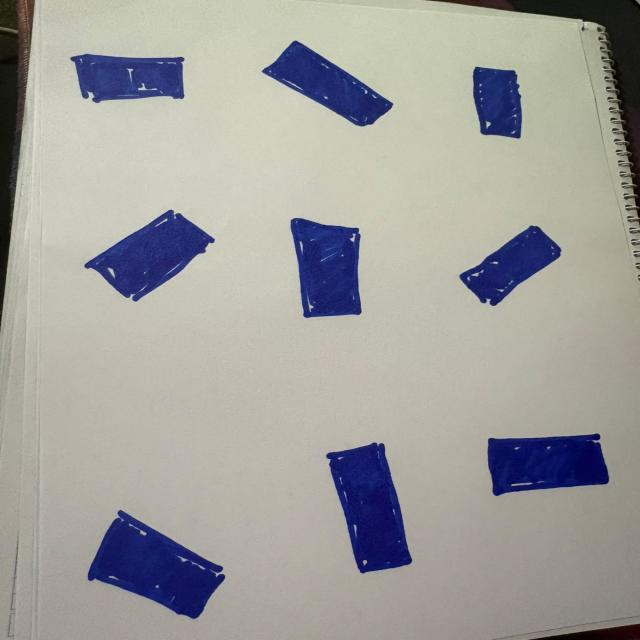Rectangle: (87, 511, 225, 618), (85, 210, 214, 301), (262, 41, 393, 126), (327, 443, 411, 573), (460, 226, 561, 305), (487, 434, 607, 496), (291, 218, 361, 317), (473, 66, 522, 138)
